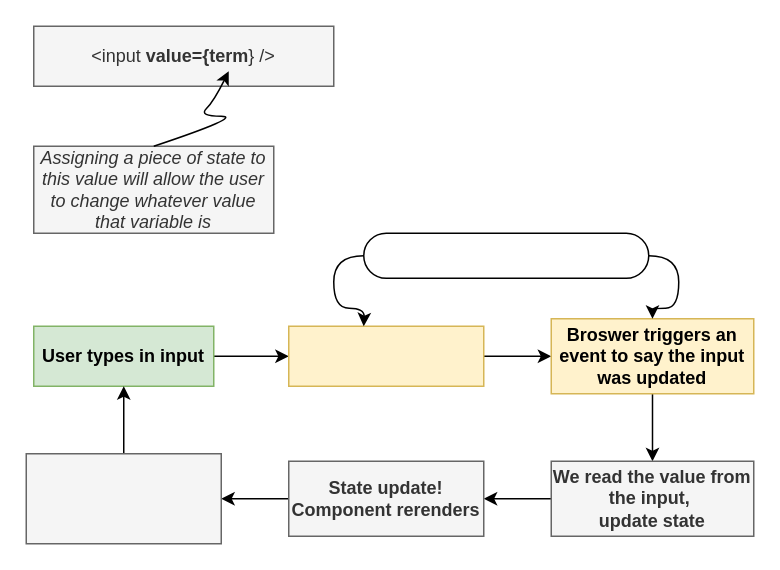
Some shapes in this 780 by 570 pixel diagram are drawn without their labels. Here are the shapes that lost their labels. From the top down, the centre of each, then its label:
the point at 505,255: Normal browser behavior
the point at 385,355: Browser updates the text in the input
the point at 123,498: We provide "value" prop to input - React changes the input's value
